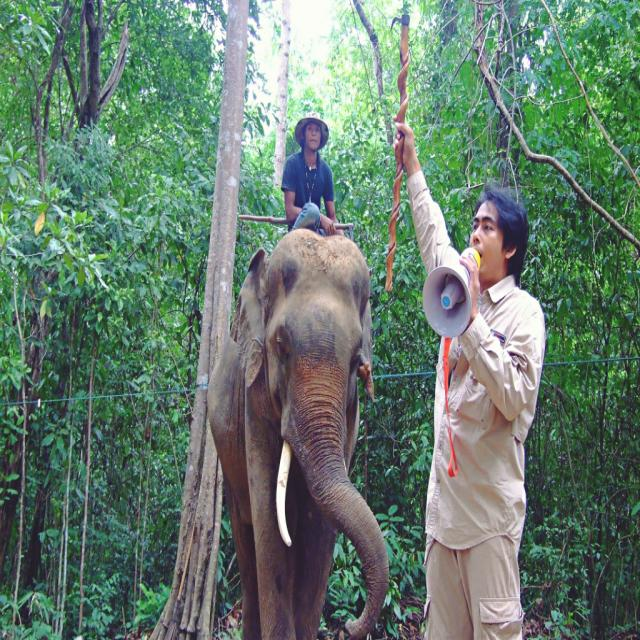Elephant: (193, 184, 423, 640)
